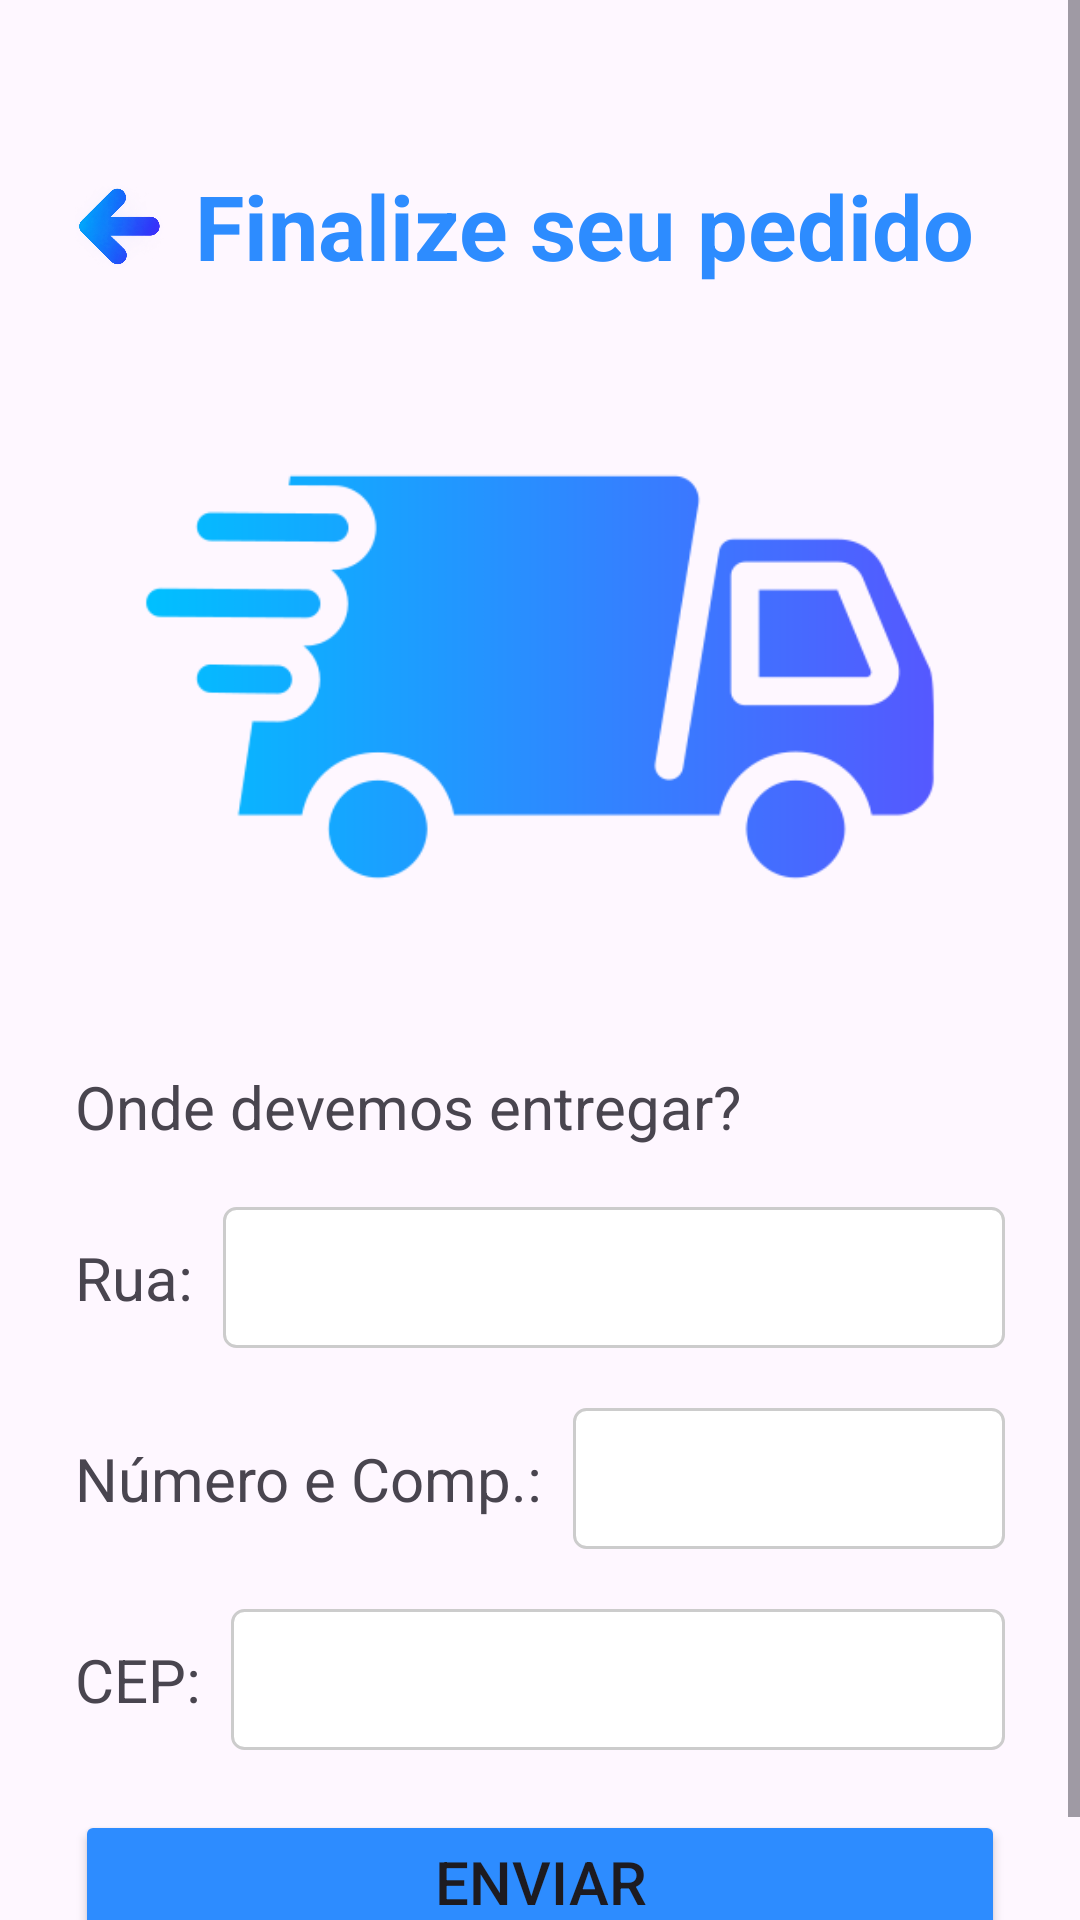

Named icons in this screenshot (1080x1920) and their centers, (x,y):
seta: (119,226)
